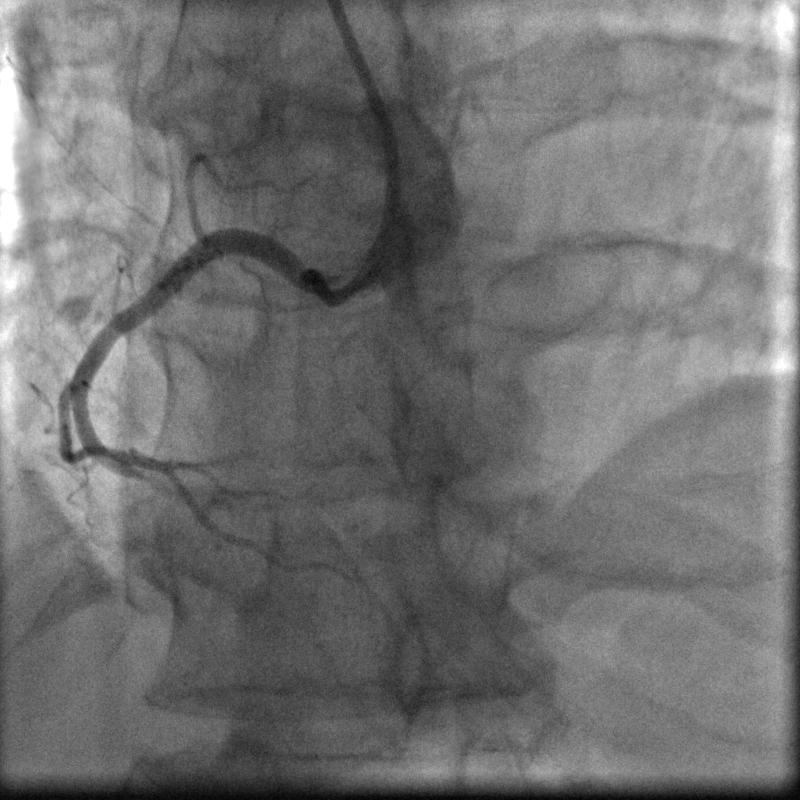Stenosis: (110, 450, 160, 488)
